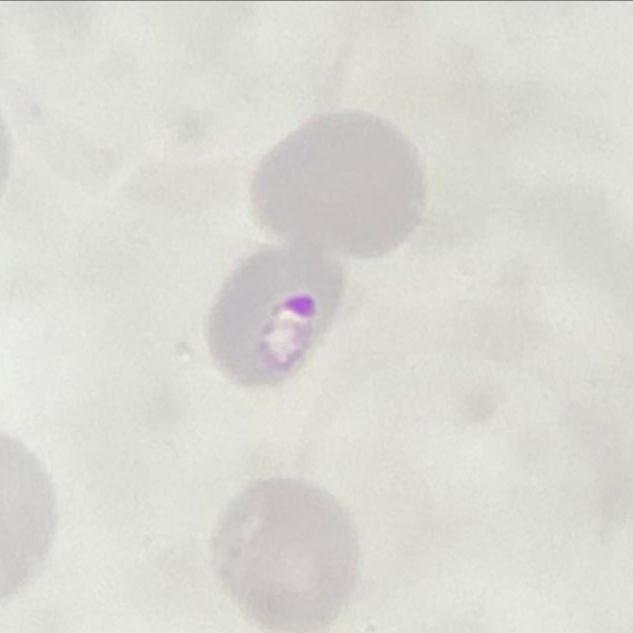Infected: (202, 238, 349, 391)
Uninfected: (251, 109, 432, 259), (208, 477, 364, 633)
